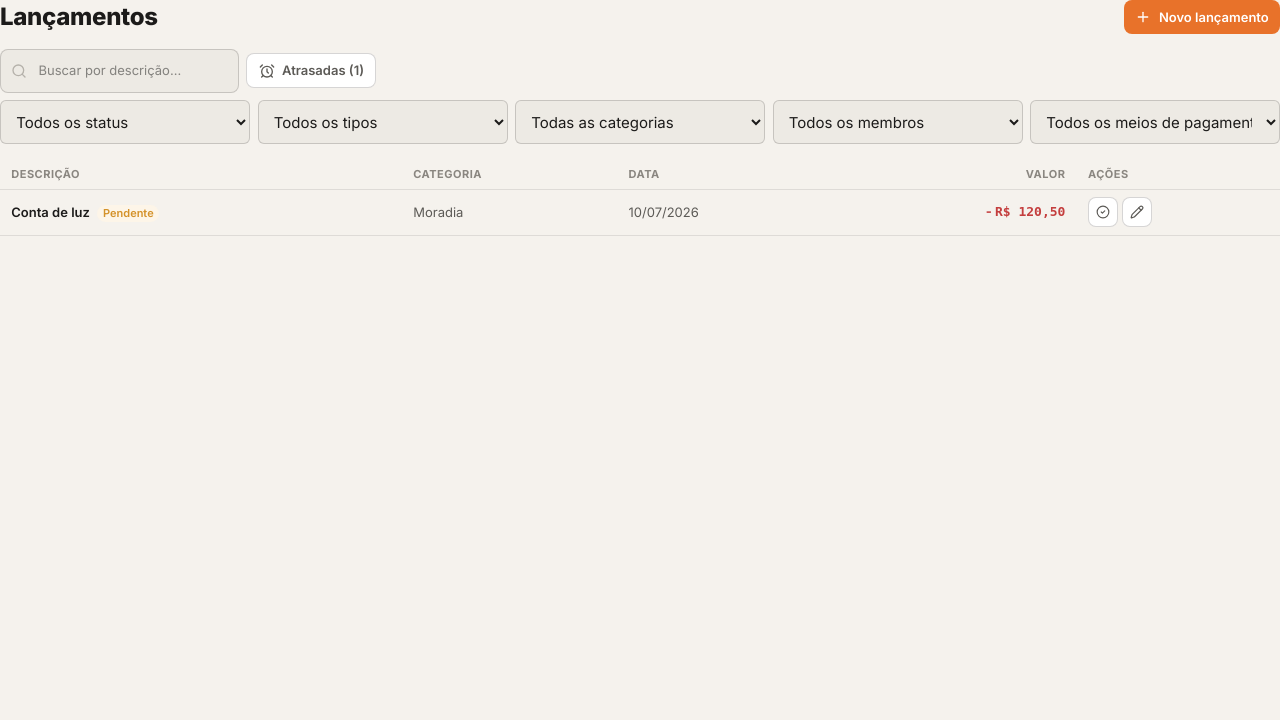
Test: FinanceEntriesPage › creates an entry through the modal
Click the button "Novo lançamento" at (1202, 17), box 1124,0 -> 1279,34
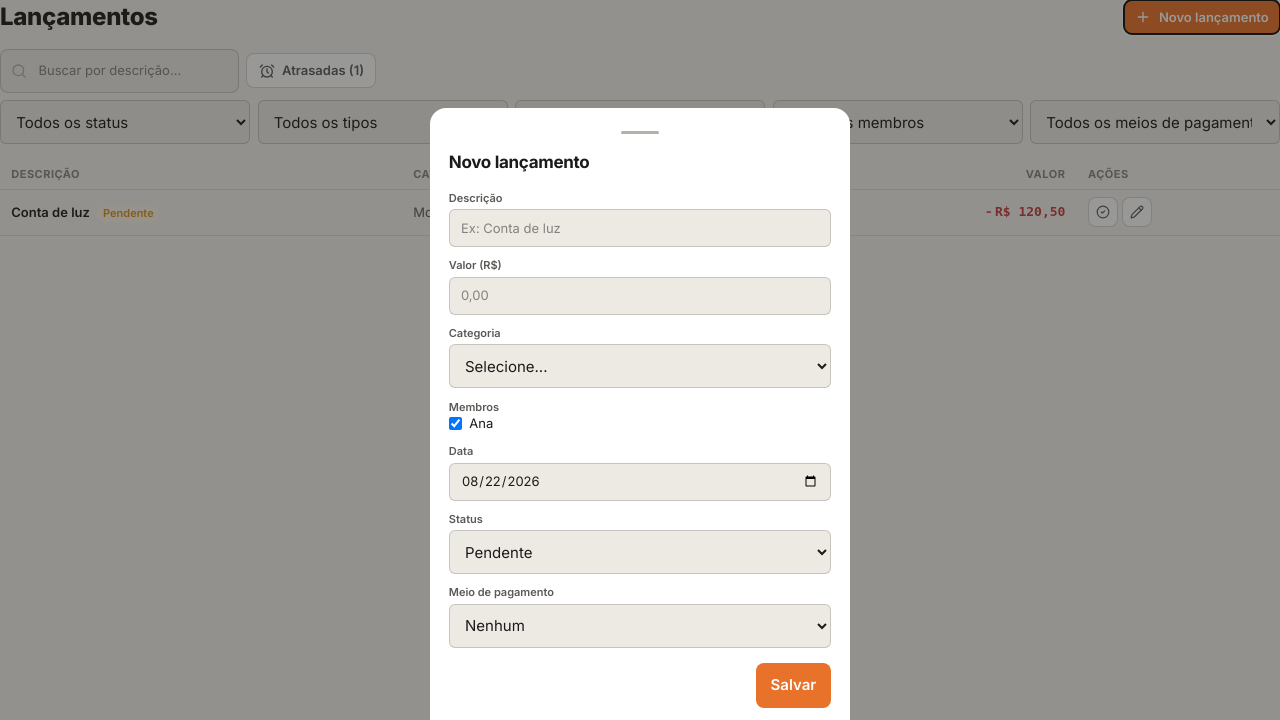
Type "Água" into the field labelled "Descrição" at (640, 228), box 449,209 -> 831,247
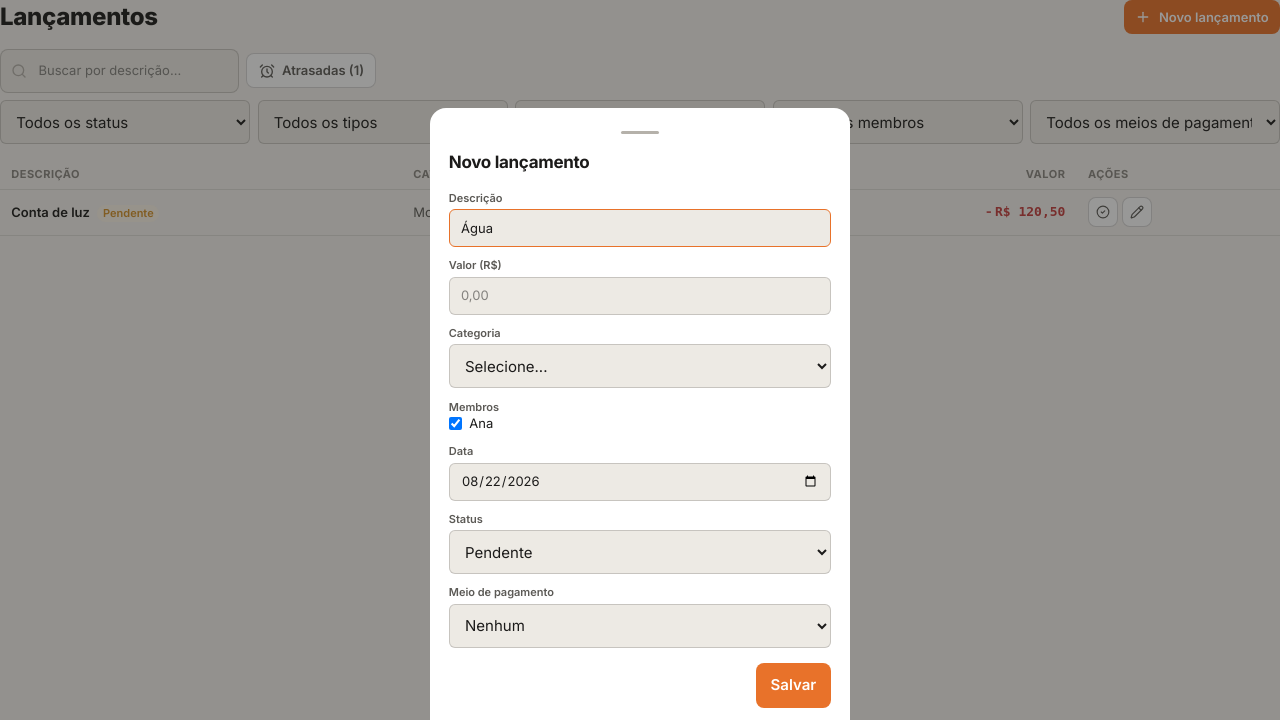
Type "80" into the number field labelled "Valor (R$)" at (640, 296), box 449,277 -> 831,315
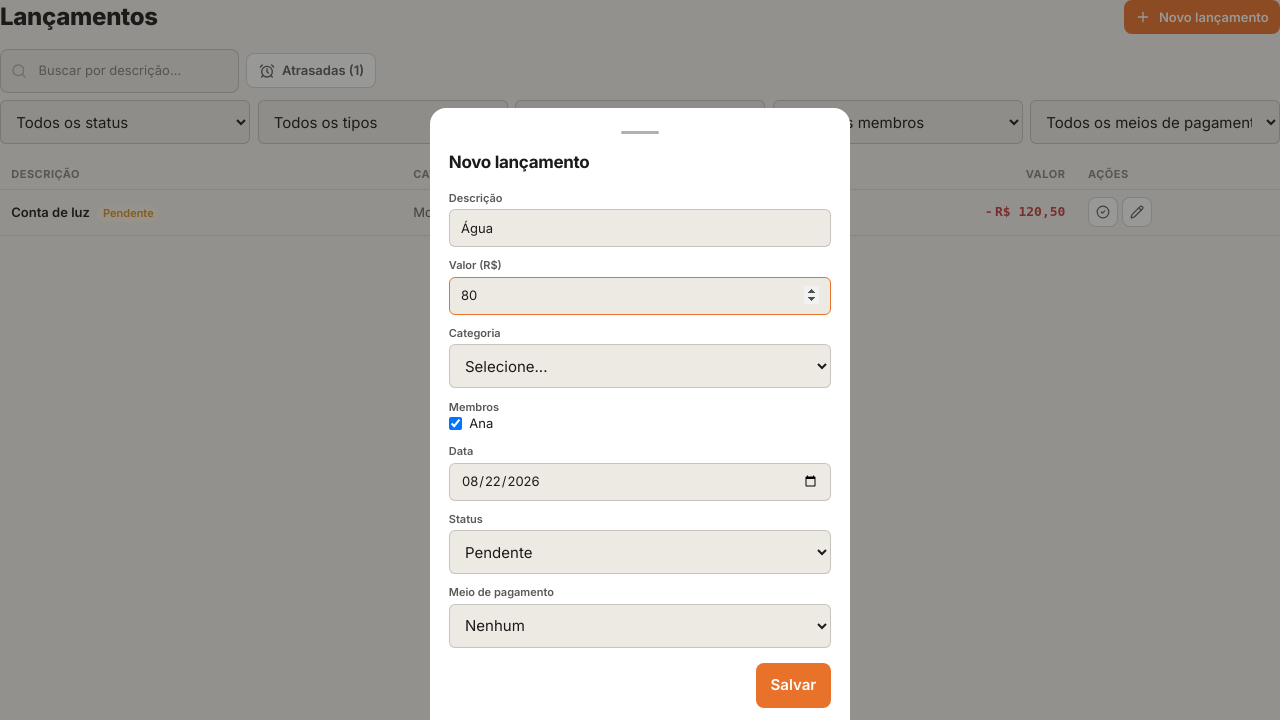
Select "Moradia" in the dropdown labelled "Categoria" at (640, 366), box 449,344 -> 831,388
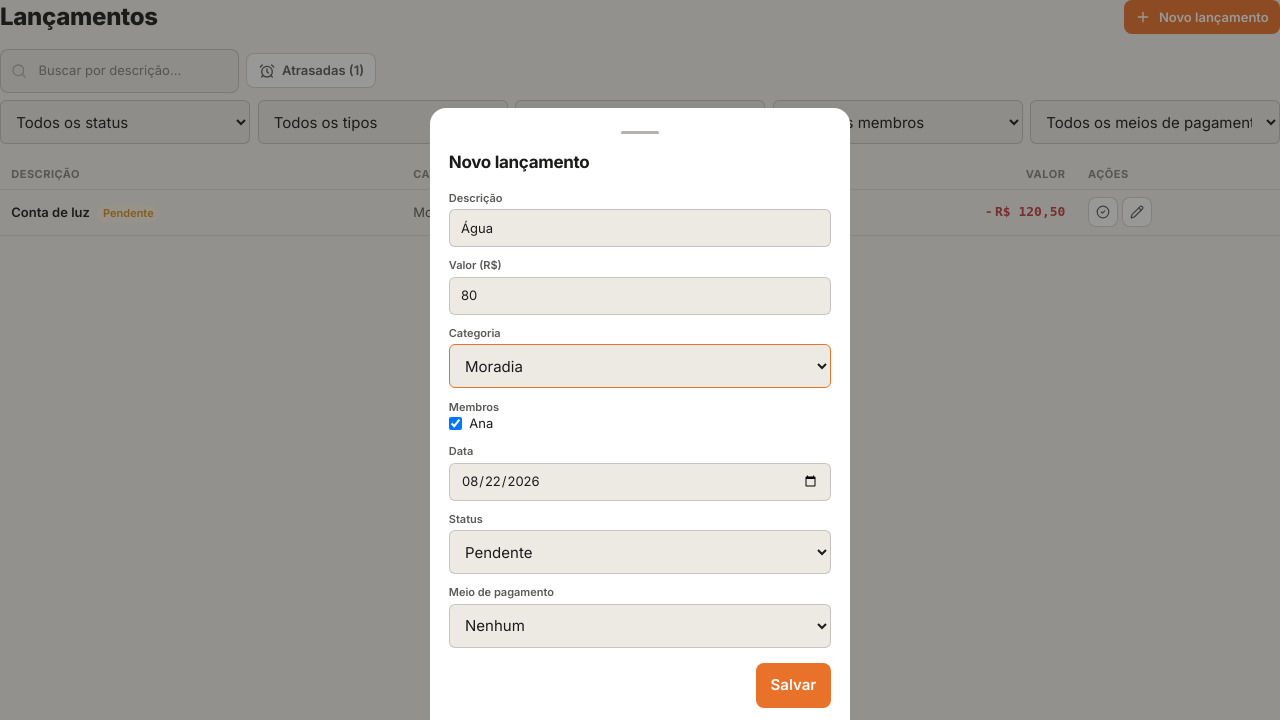
Click the button "Salvar" at (793, 685), box 756,663 -> 831,708
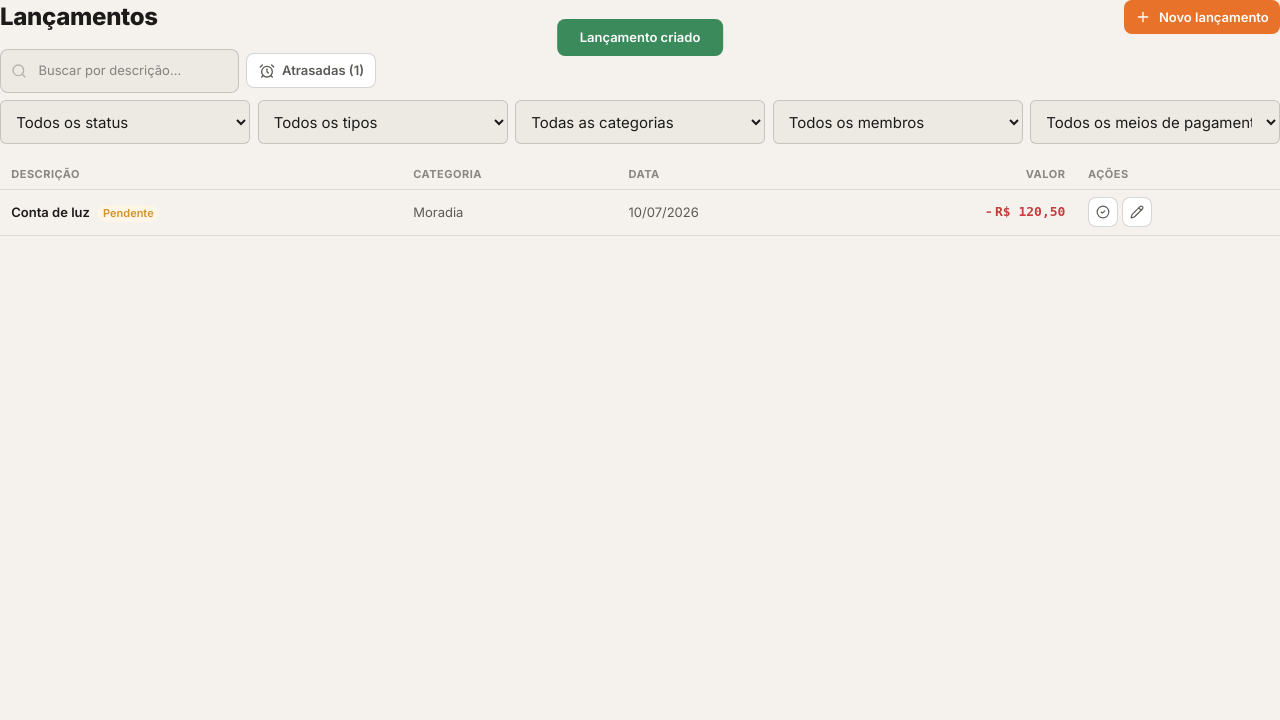
Check: the dialog is gone
Check: the message reads "Lançamento criado", box 580,29 -> 700,45
